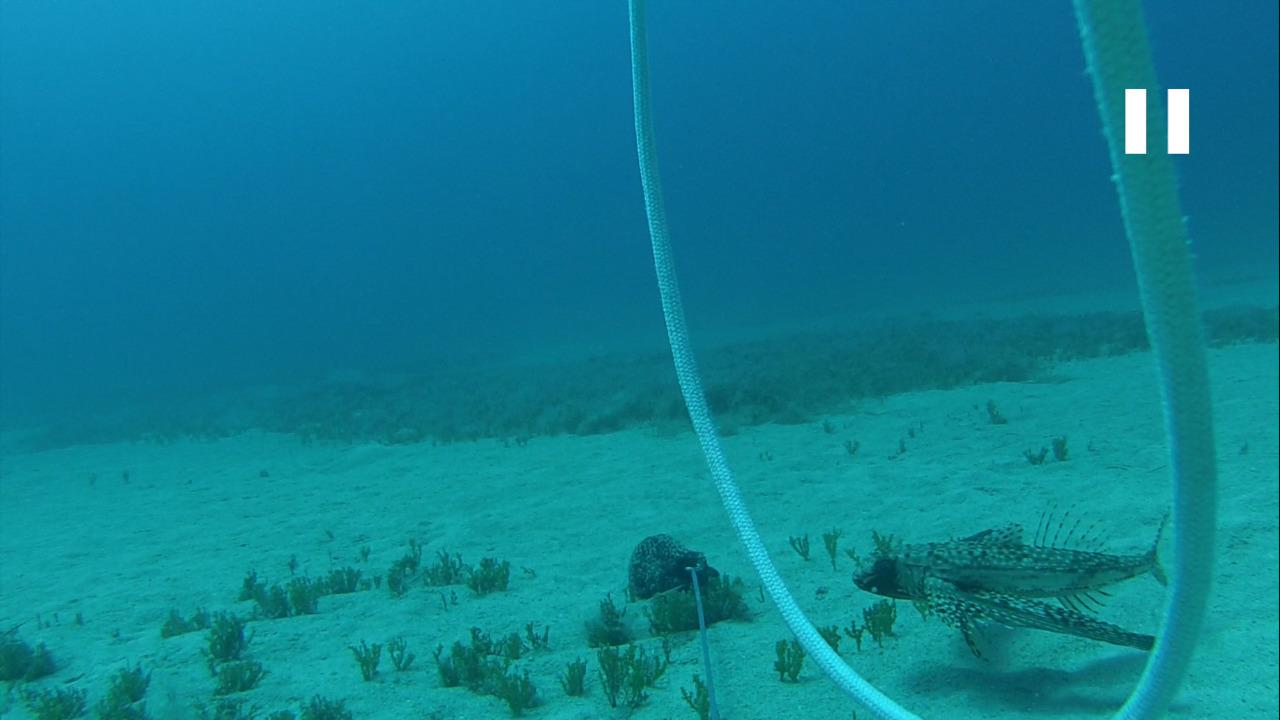dactylopterus: (852, 506, 1184, 656)
